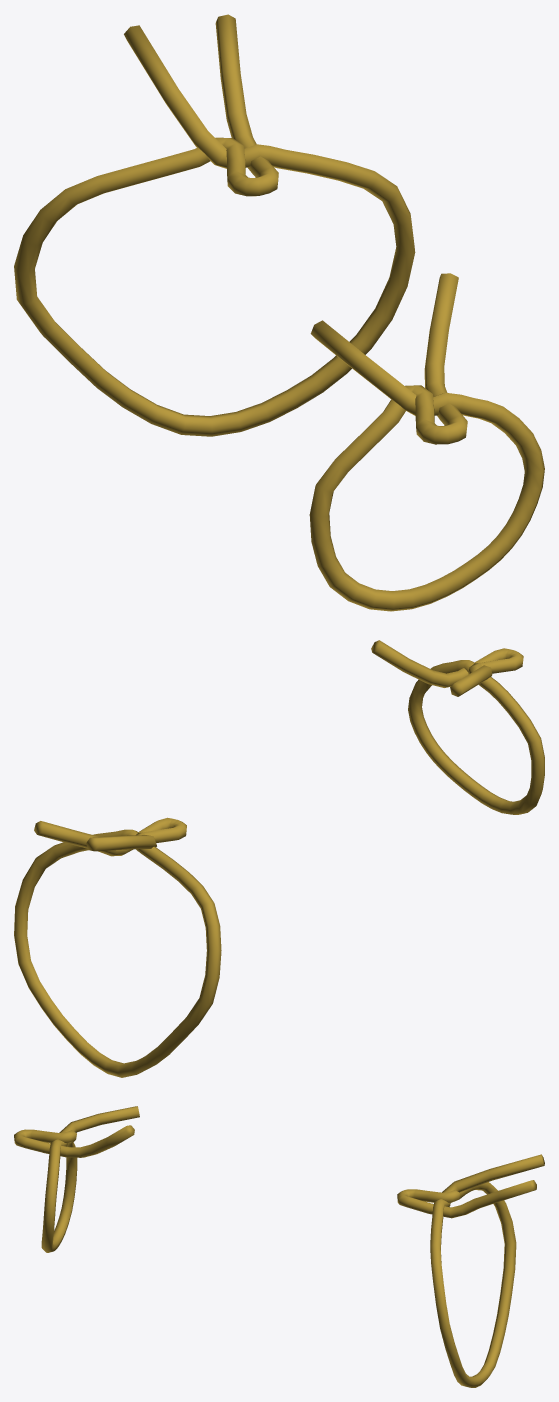
The model's file is Tourniquet.FBX.
3 renders of one model, top to bottom at view 1: azimuth 30°, elevation 25°; view 2: azimuth 150°, elevation 25°; view 3: azimuth 270°, elevation 25°, orthographic. The views are drawn at different scales.
Parts seen in each view (by area): view 1: Tourniquet_Arm, Tourniquet_Hand; view 2: Tourniquet_Arm, Tourniquet_Hand; view 3: Tourniquet_Arm, Tourniquet_Hand.
Part boxes in pixels (left/top/right/bottom): Tourniquet_Arm: left=14, top=14, right=415, bottom=436; Tourniquet_Hand: left=309, top=273, right=544, bottom=611; Tourniquet_Arm: left=14, top=817, right=221, bottom=1077; Tourniquet_Hand: left=371, top=640, right=544, bottom=814; Tourniquet_Arm: left=397, top=1154, right=544, bottom=1387; Tourniquet_Hand: left=14, top=1106, right=139, bottom=1252.
Bounding box in the file's own units: 4.49 × 8.39 × 4.07.
